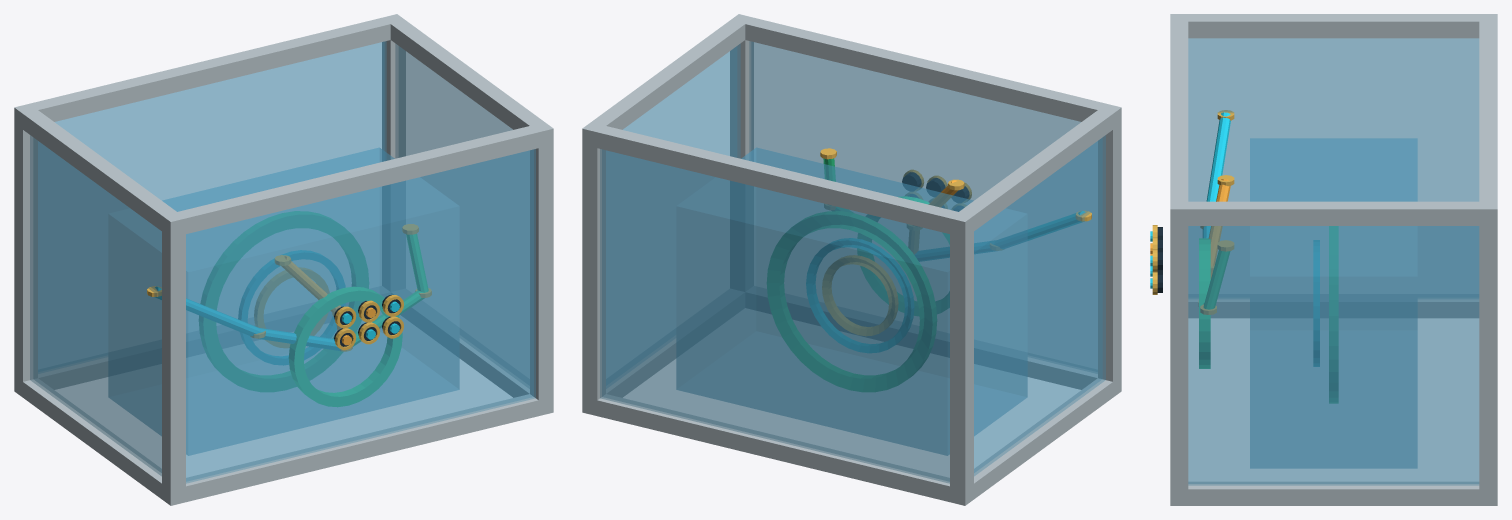
The model's file is 33_L81_TripleModularMajorityVoter.fbx.
3 renders of one model, left to right at view 1: azimuth 30°, elevation 25°; view 2: azimuth 150°, elevation 25°; view 3: azimuth 270°, elevation 25°, orthographic. The views are drawn at different scales.
Visible parts, largest first — view 1: TripleModularMajorityVoter, TripleModularMajorityVoter_Part_0036, TripleModularMajorityVoter_Part_0037, TripleModularMajorityVoter_Part_0038; view 2: TripleModularMajorityVoter, TripleModularMajorityVoter_Part_0036, TripleModularMajorityVoter_Part_0037, TripleModularMajorityVoter_Part_0038; view 3: TripleModularMajorityVoter, TripleModularMajorityVoter_Part_0036, TripleModularMajorityVoter_Part_0037.
Boxes of the visible parts, bbox=[...] form: TripleModularMajorityVoter: bbox=[14, 14, 553, 505]; TripleModularMajorityVoter_Part_0036: bbox=[199, 211, 368, 391]; TripleModularMajorityVoter_Part_0037: bbox=[238, 250, 345, 365]; TripleModularMajorityVoter_Part_0038: bbox=[254, 267, 329, 347]; TripleModularMajorityVoter: bbox=[582, 14, 1121, 505]; TripleModularMajorityVoter_Part_0036: bbox=[767, 211, 936, 391]; TripleModularMajorityVoter_Part_0037: bbox=[806, 238, 914, 352]; TripleModularMajorityVoter_Part_0038: bbox=[822, 255, 898, 335]; TripleModularMajorityVoter: bbox=[1150, 14, 1497, 505]; TripleModularMajorityVoter_Part_0036: bbox=[1329, 226, 1338, 403]; TripleModularMajorityVoter_Part_0037: bbox=[1313, 240, 1319, 366].
Bounding box in the file's own units: 240 × 170 × 180.
